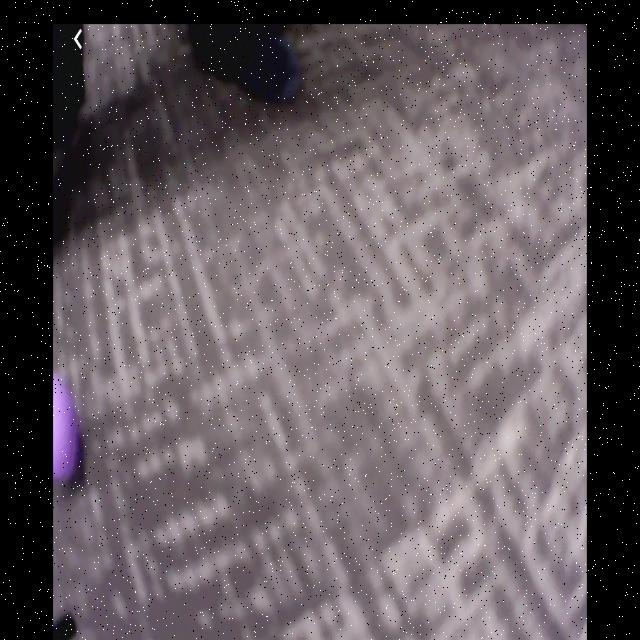ball: (53, 373, 84, 489)
